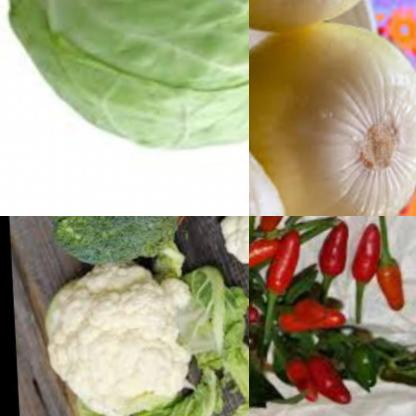broccoli: (17, 216, 197, 272)
cabbage: (0, 0, 249, 165)
cayliflower: (29, 256, 195, 416), (215, 216, 249, 279)
hot pepper: (263, 352, 345, 415), (279, 293, 344, 347), (267, 230, 310, 308), (311, 219, 351, 293), (368, 259, 404, 324), (352, 229, 384, 296), (249, 233, 286, 284), (249, 216, 297, 240)
onion: (249, 22, 416, 216), (249, 0, 403, 41), (249, 132, 291, 216)
